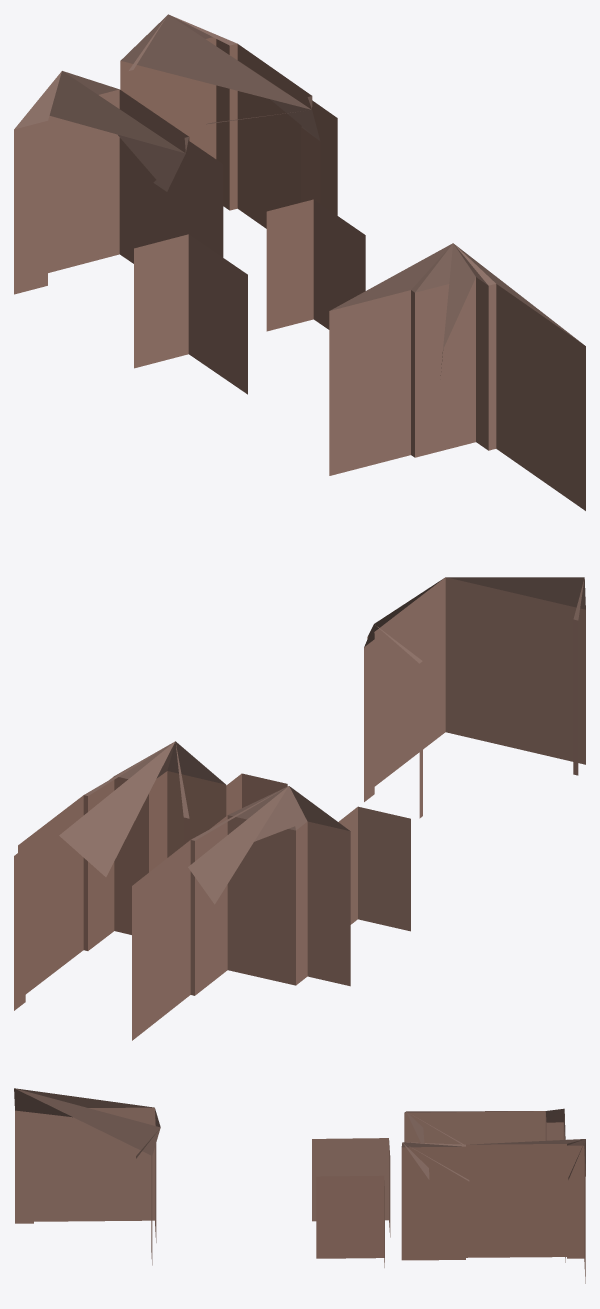
File: c_1635_17829_buildings_residential.glb
3 views of the same model, one above another, from view 1: azimuth 30°, elevation 25°; view 2: azimuth 150°, elevation 25°; view 3: azimuth 270°, elevation 25° (orthographic). The views are drawn at different scales.
Parts seen in each view (by area): view 1: geometry_0; view 2: geometry_0; view 3: geometry_0.
Part boxes in pixels (x1,y1,x2,y2): geometry_0: (14, 14, 585, 510); geometry_0: (14, 577, 585, 1040); geometry_0: (14, 1088, 585, 1283).
Bounding box in the file's own units: 16.92 × 14.55 × 50.4.
